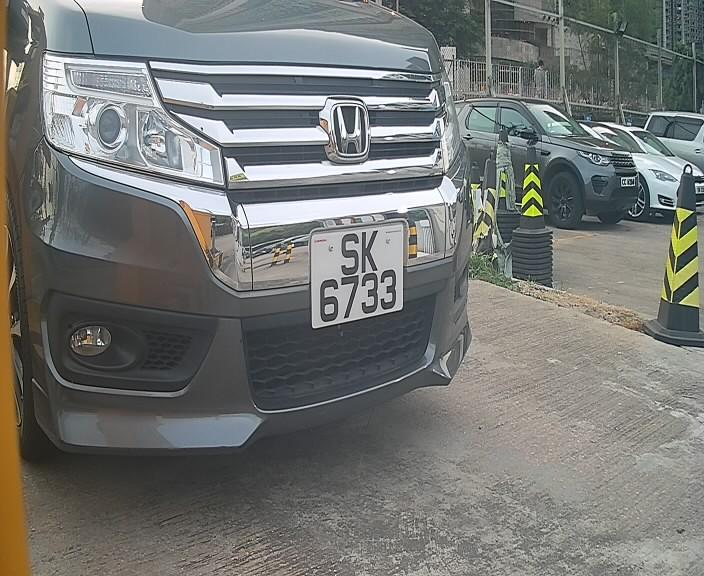License Plate: (305, 193, 412, 327)
